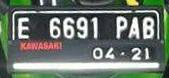clone-license-plate: (11, 9, 159, 62)
